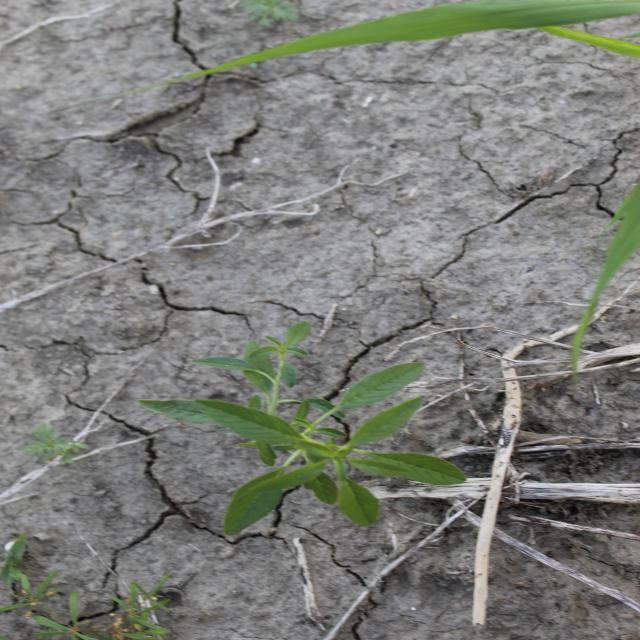Carpetweed: (2, 568, 178, 638)
Ragweed: (21, 420, 92, 468)
Waterhemp: (133, 319, 469, 537)
